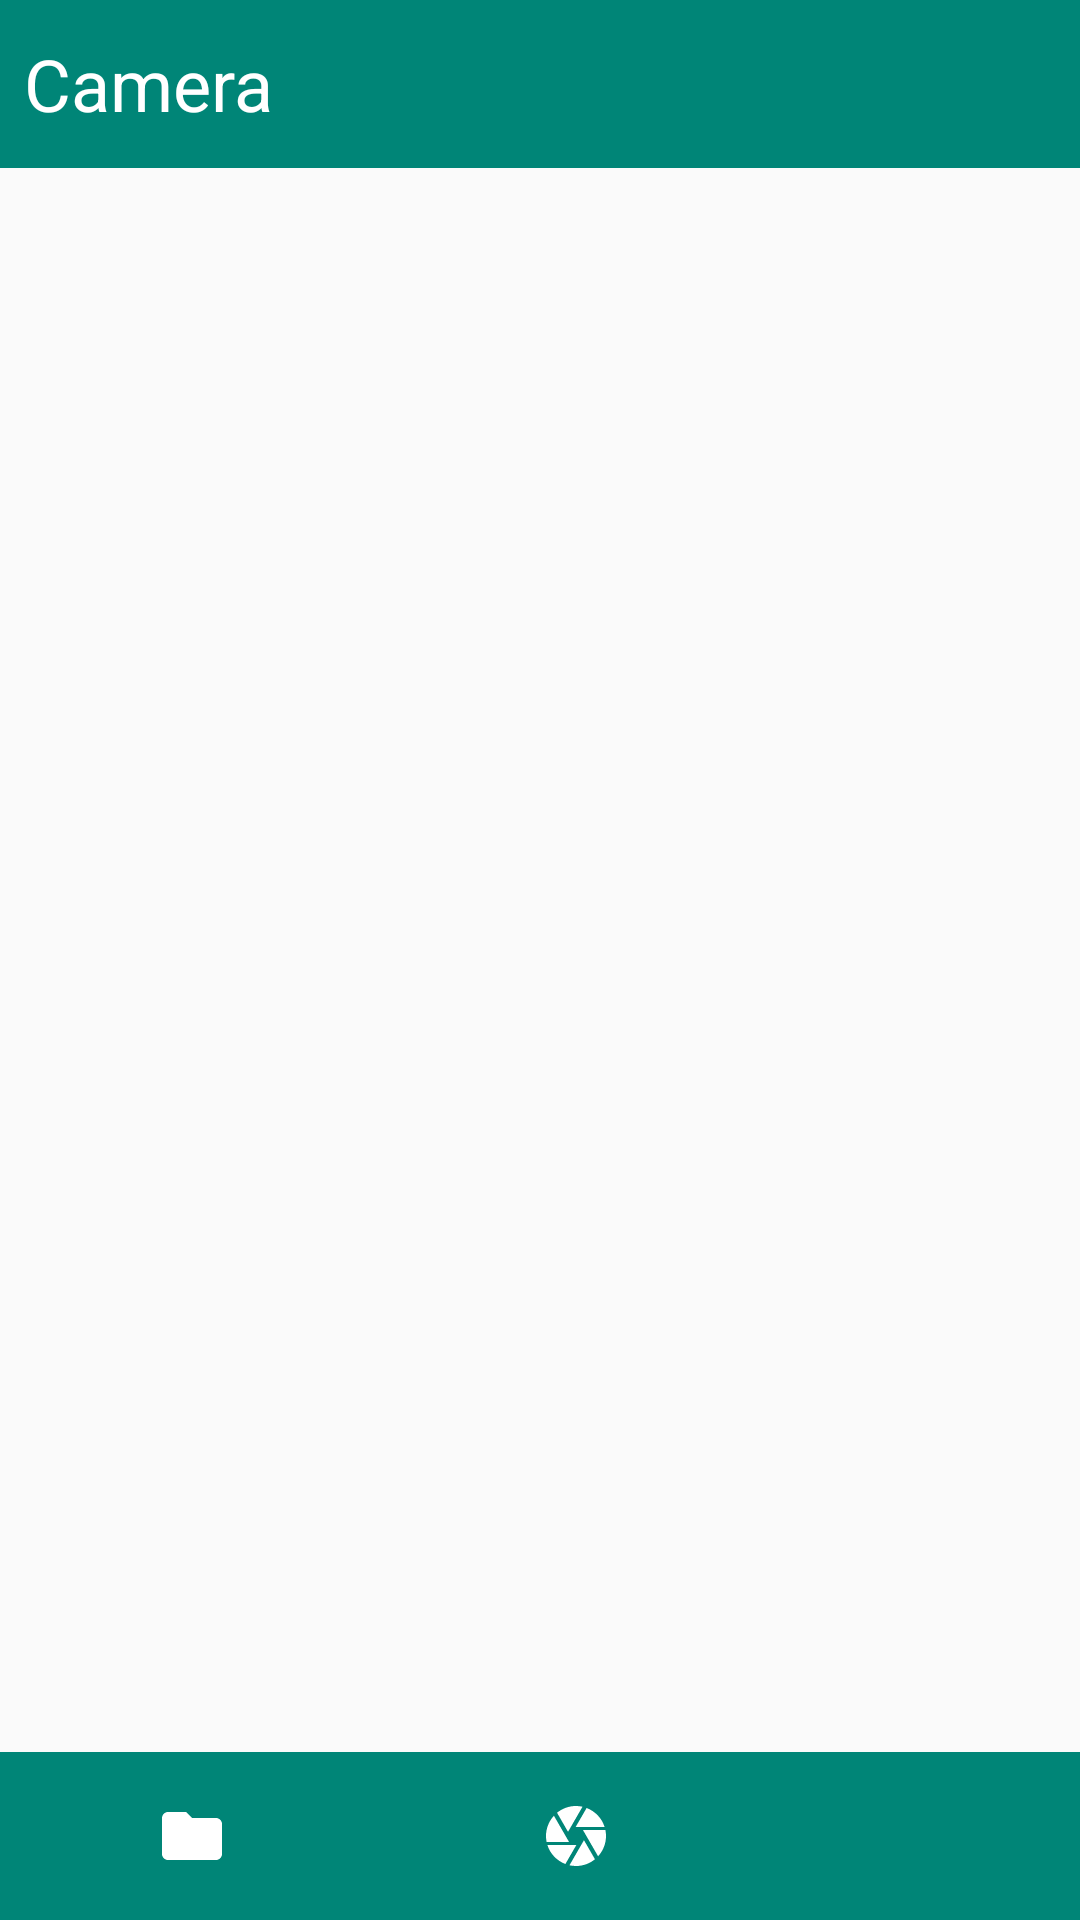

Locate icon controls on the screen. Image size 1080px x 1920px, boxes as (x1,y1,x2,y2).
camera: (546,1806,606,1866)
folder: (162,1812,222,1860)
